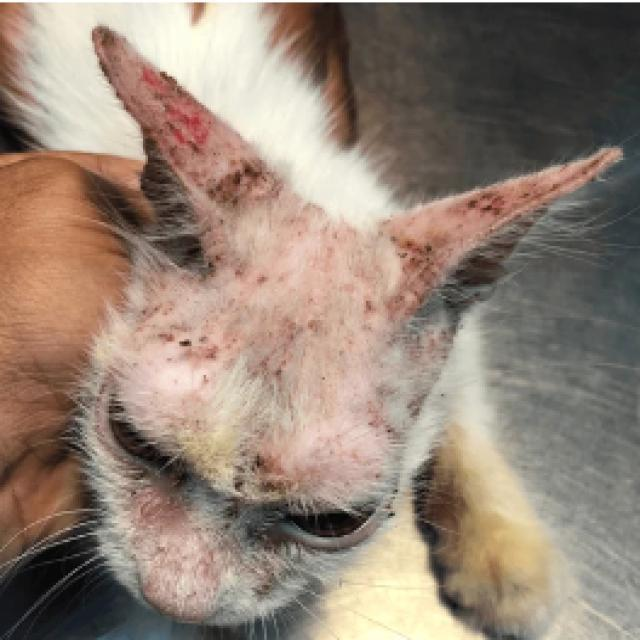Mange: (135, 66, 212, 155), (81, 26, 135, 118), (210, 157, 282, 201), (218, 484, 252, 542), (422, 308, 456, 363), (234, 443, 284, 478), (158, 321, 206, 354), (470, 193, 509, 218), (305, 312, 331, 343), (250, 264, 276, 294), (270, 358, 294, 389), (362, 412, 396, 432), (360, 289, 382, 317), (420, 236, 440, 264)
